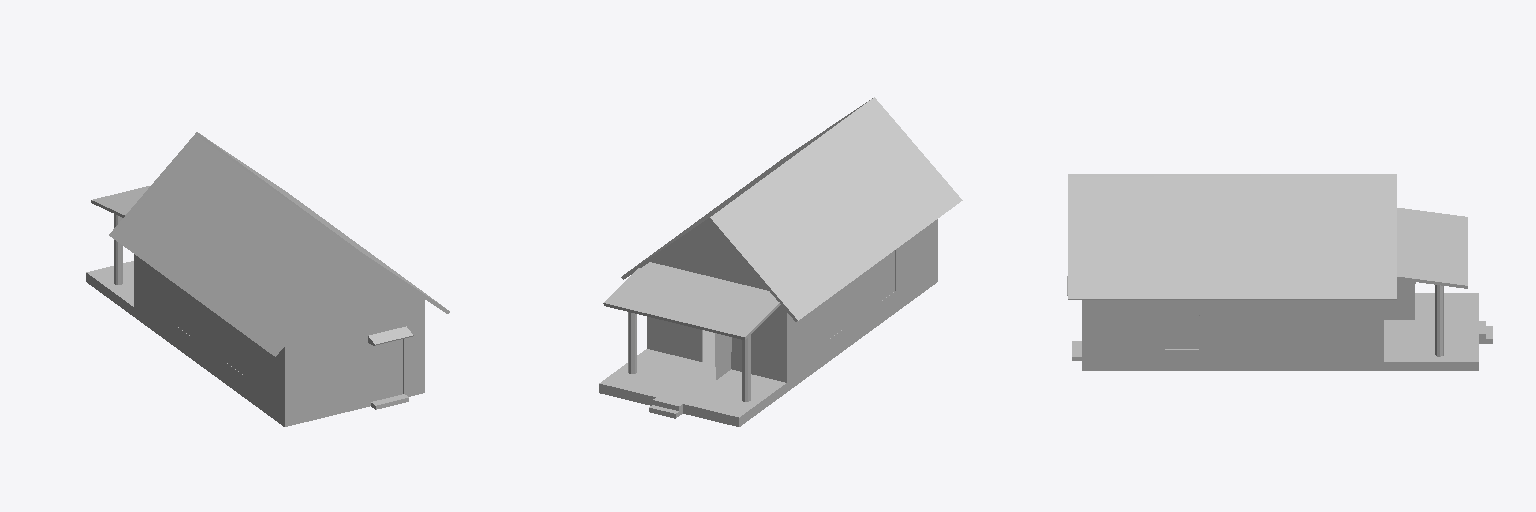
The model's file is farmhouse_adjusted.obj.
3 views of the same model, side by side, from view 1: azimuth 30°, elevation 25°; view 2: azimuth 150°, elevation 25°; view 3: azimuth 270°, elevation 25° (orthographic).
Visible parts, largest first — view 1: farmhouse; view 2: farmhouse; view 3: farmhouse.
Boxes of the visible parts, <box> form: farmhouse: <box>86,132,449,426</box>; farmhouse: <box>599,97,962,426</box>; farmhouse: <box>1067,174,1492,370</box>.
Size of the model in its own units: 24.28 by 21.28 by 50.36.